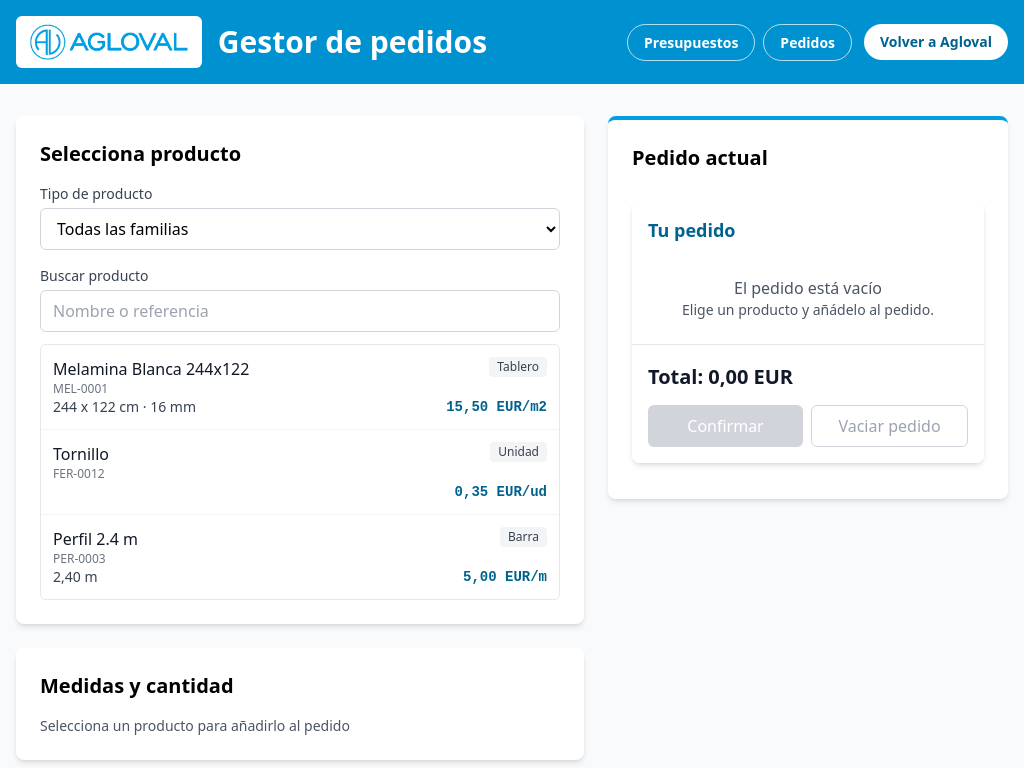
it: CuttingCalculator page › choosing a family refetches the products with that family
Expected: the text "Melamina Blanca 244x122" is shown, x1=53 y1=357 x2=249 y2=381
Step 1. Select "Ferreteria (1)" in the dropdown with test id "family-select" → (300, 229), box x1=40 y1=208 x2=560 y2=250
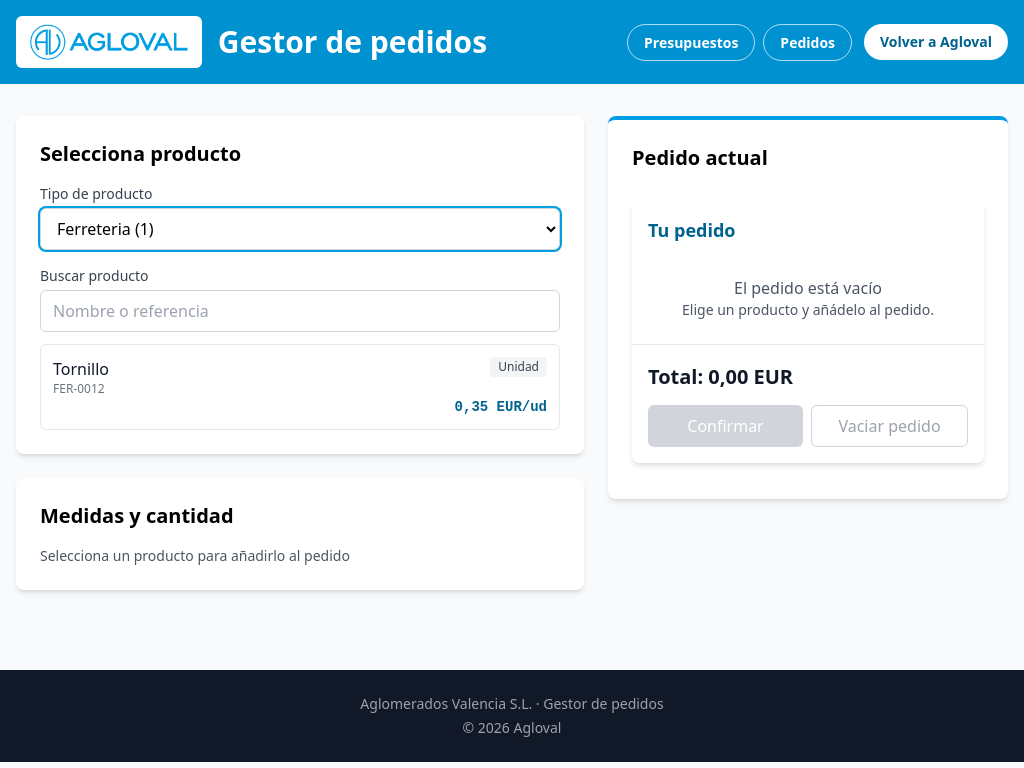
Expected: the text "Tornillo" is shown, x1=53 y1=357 x2=109 y2=381
Result: the option "Melamina Blanca 244x122" is gone
